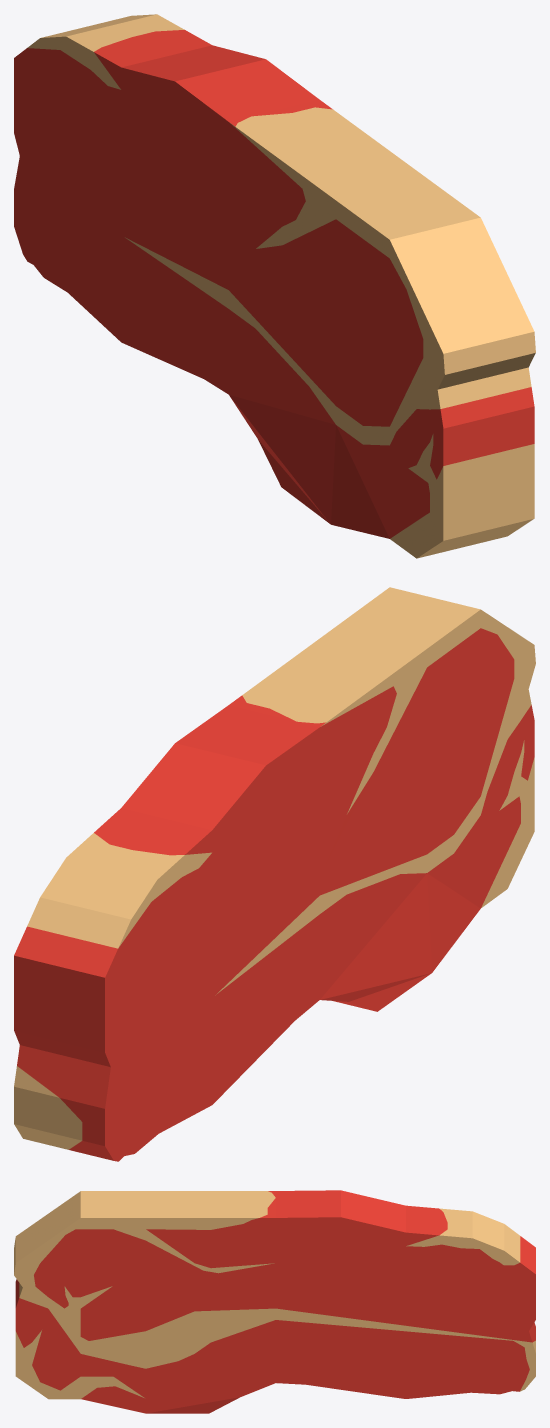
The model's file is Steak.obj.
The picture shows the model from 3 angles, top to bottom: view 1: azimuth 30°, elevation 25°; view 2: azimuth 150°, elevation 25°; view 3: azimuth 270°, elevation 25°; orthographic projection. The views are drawn at different scales.
Parts seen in each view (by area): view 1: group905154054; view 2: group905154054; view 3: group905154054.
Boxes of the visible parts, x1,y1,x2,y2 form: group905154054: (14,14,535,558); group905154054: (14,587,535,1161); group905154054: (14,1190,535,1413).
Size of the model in its own units: 0.38 by 1.23 by 2.95.
